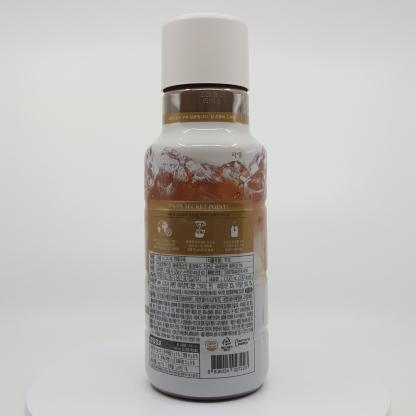----------1-1L: (144, 13, 269, 401)
